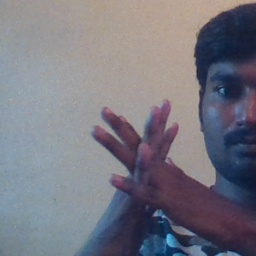W: (90, 94, 200, 233)
